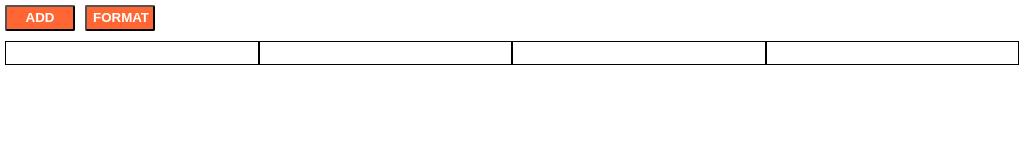
it: App Component › user clicks format button and formatted result is echoed
Type "123456" into the 1st field named "value1" at (132, 53), box left=5, top=41, right=258, bottom=65
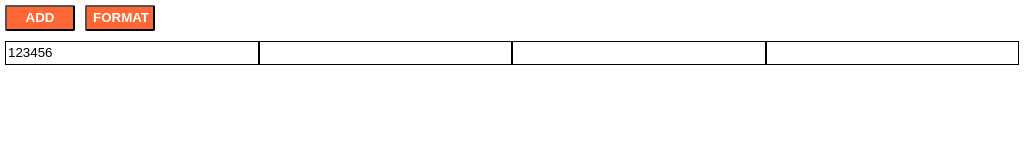
Type "1" into the 2nd field named "value2" at (385, 53), box left=258, top=41, right=512, bottom=65
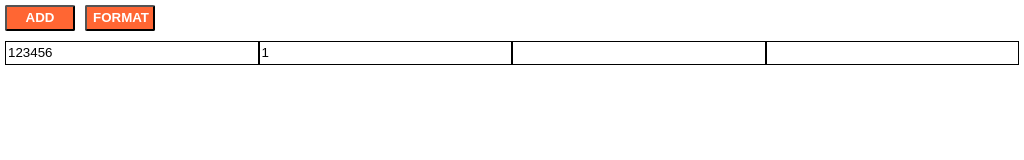
Type "1" into the 3rd field named "value3" at (639, 53), box left=512, top=41, right=766, bottom=65
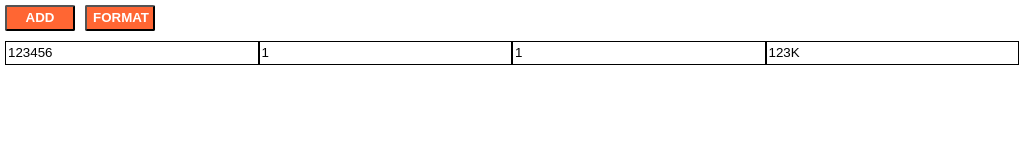
Expected: the 4th field named "result" holds "123K", left=766, top=41, right=1019, bottom=65
